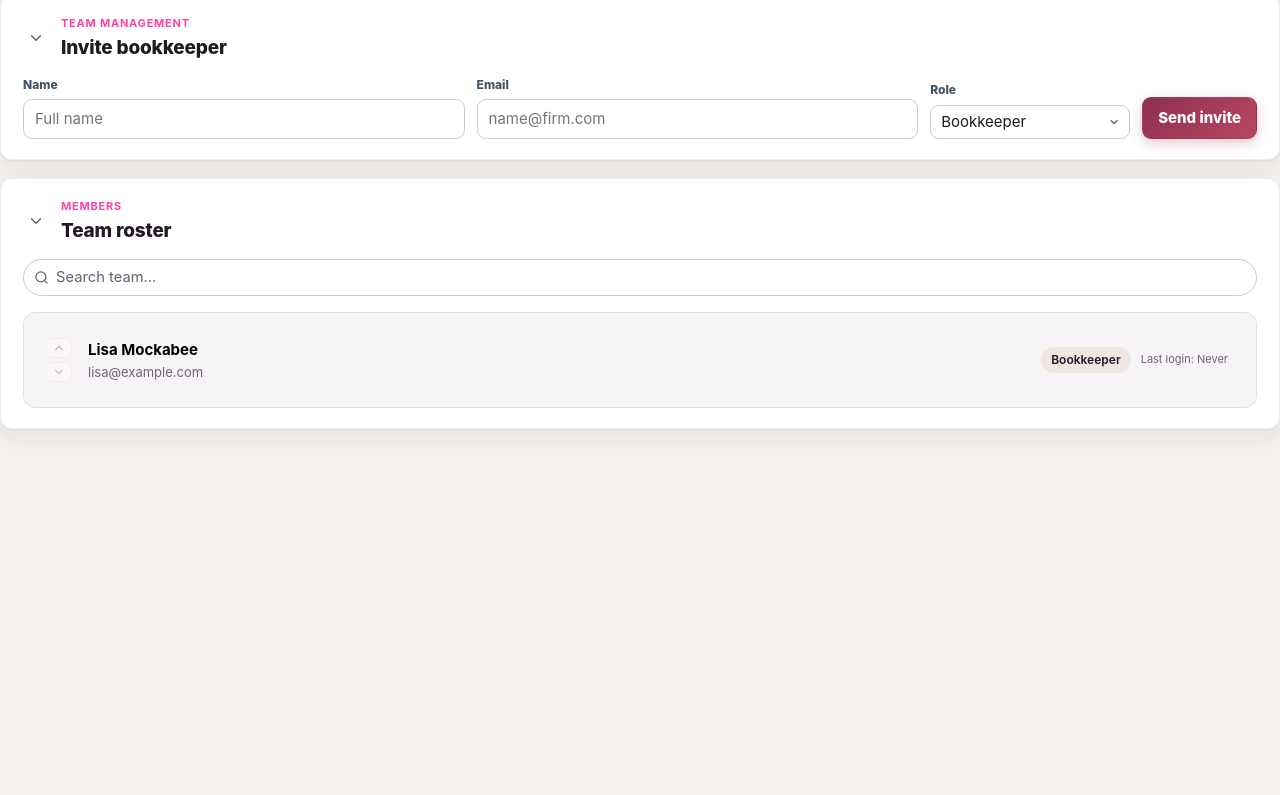
Test case: placement › puts Assigned clients first in the panel, above the 2FA line
Click the button with class "team-card-header" at (143, 349), box x1=72 y1=325 x2=1244 y2=395
(page scrolled)
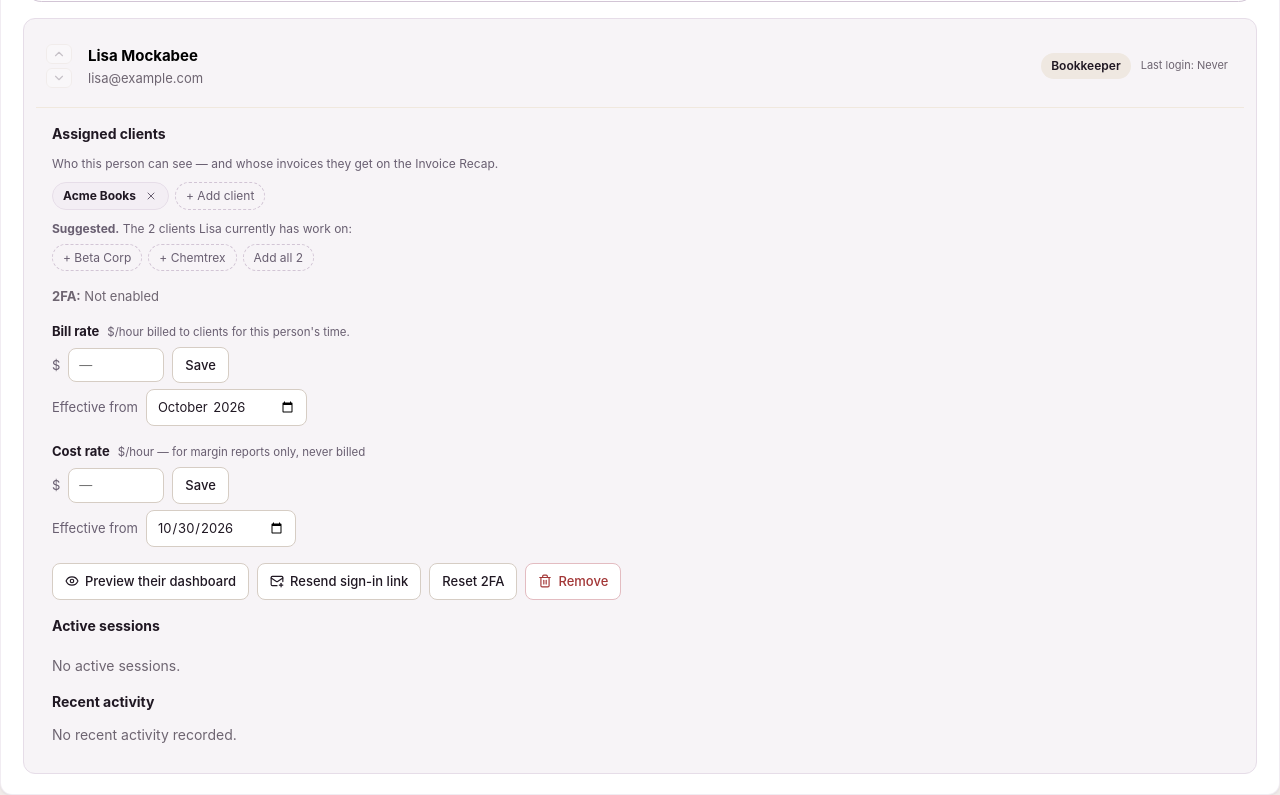
expect the heading "Assigned clients" is shown: met, box x1=52 y1=125 x2=166 y2=142
expect the element with class "team-card-body" is shown: met
